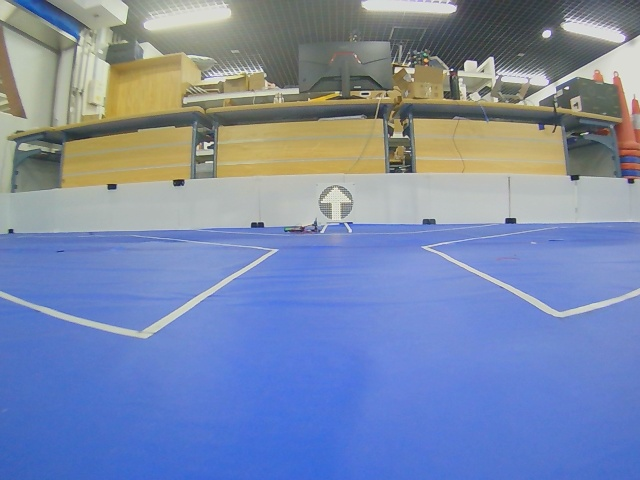straight_yellow: (319, 185, 354, 221)
